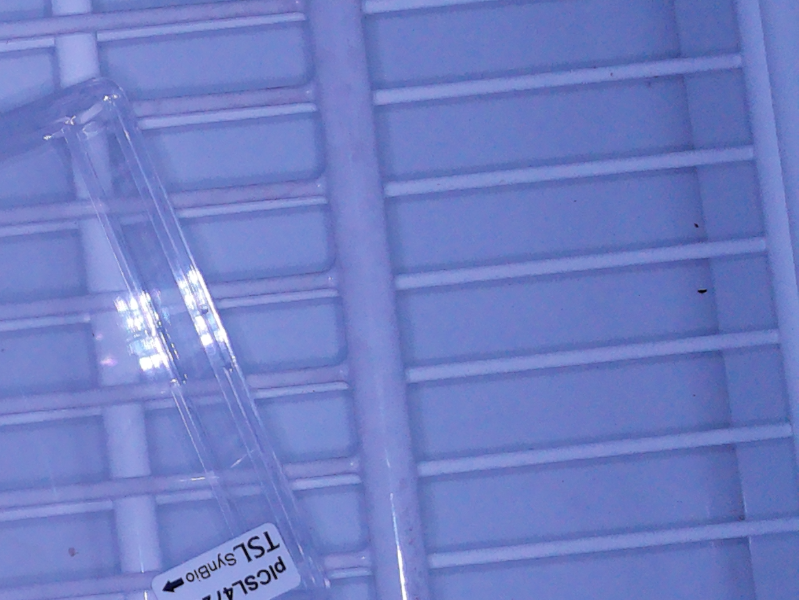plate: (1, 73, 328, 600)
